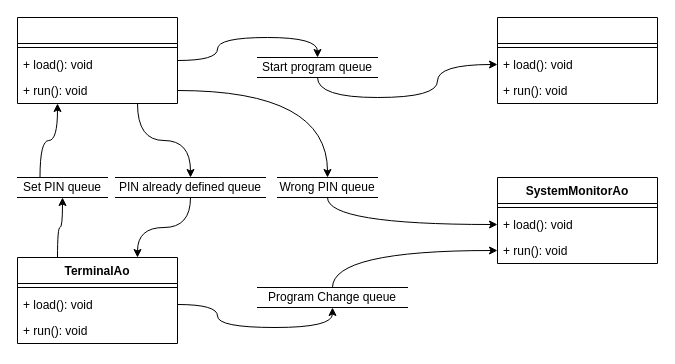
Some shapes in this 675 by 364 pixel diagram are drawn without their labels. Each missing label, with the box of its shape:
HidAo: (496, 16, 658, 104)
KeypadAo: (16, 16, 178, 104)
